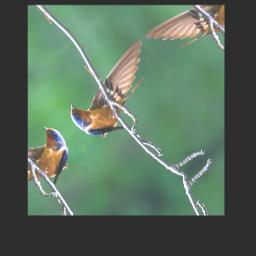Swallow: (58, 38, 180, 157)
